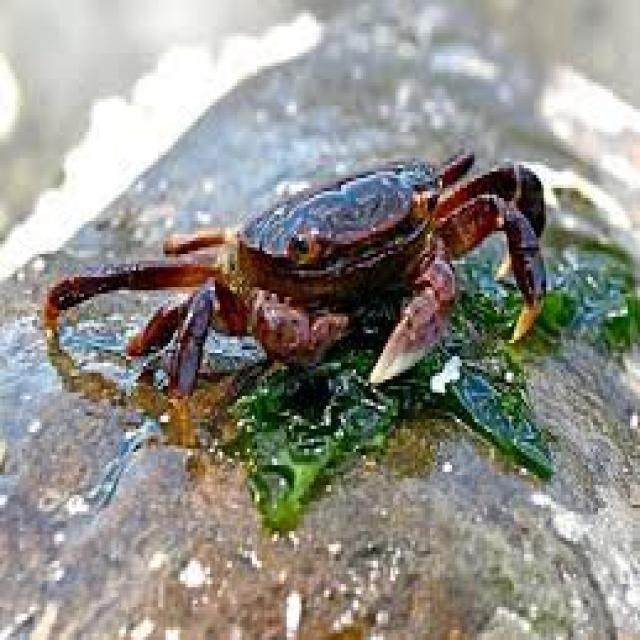crab: (183, 159, 478, 330)
